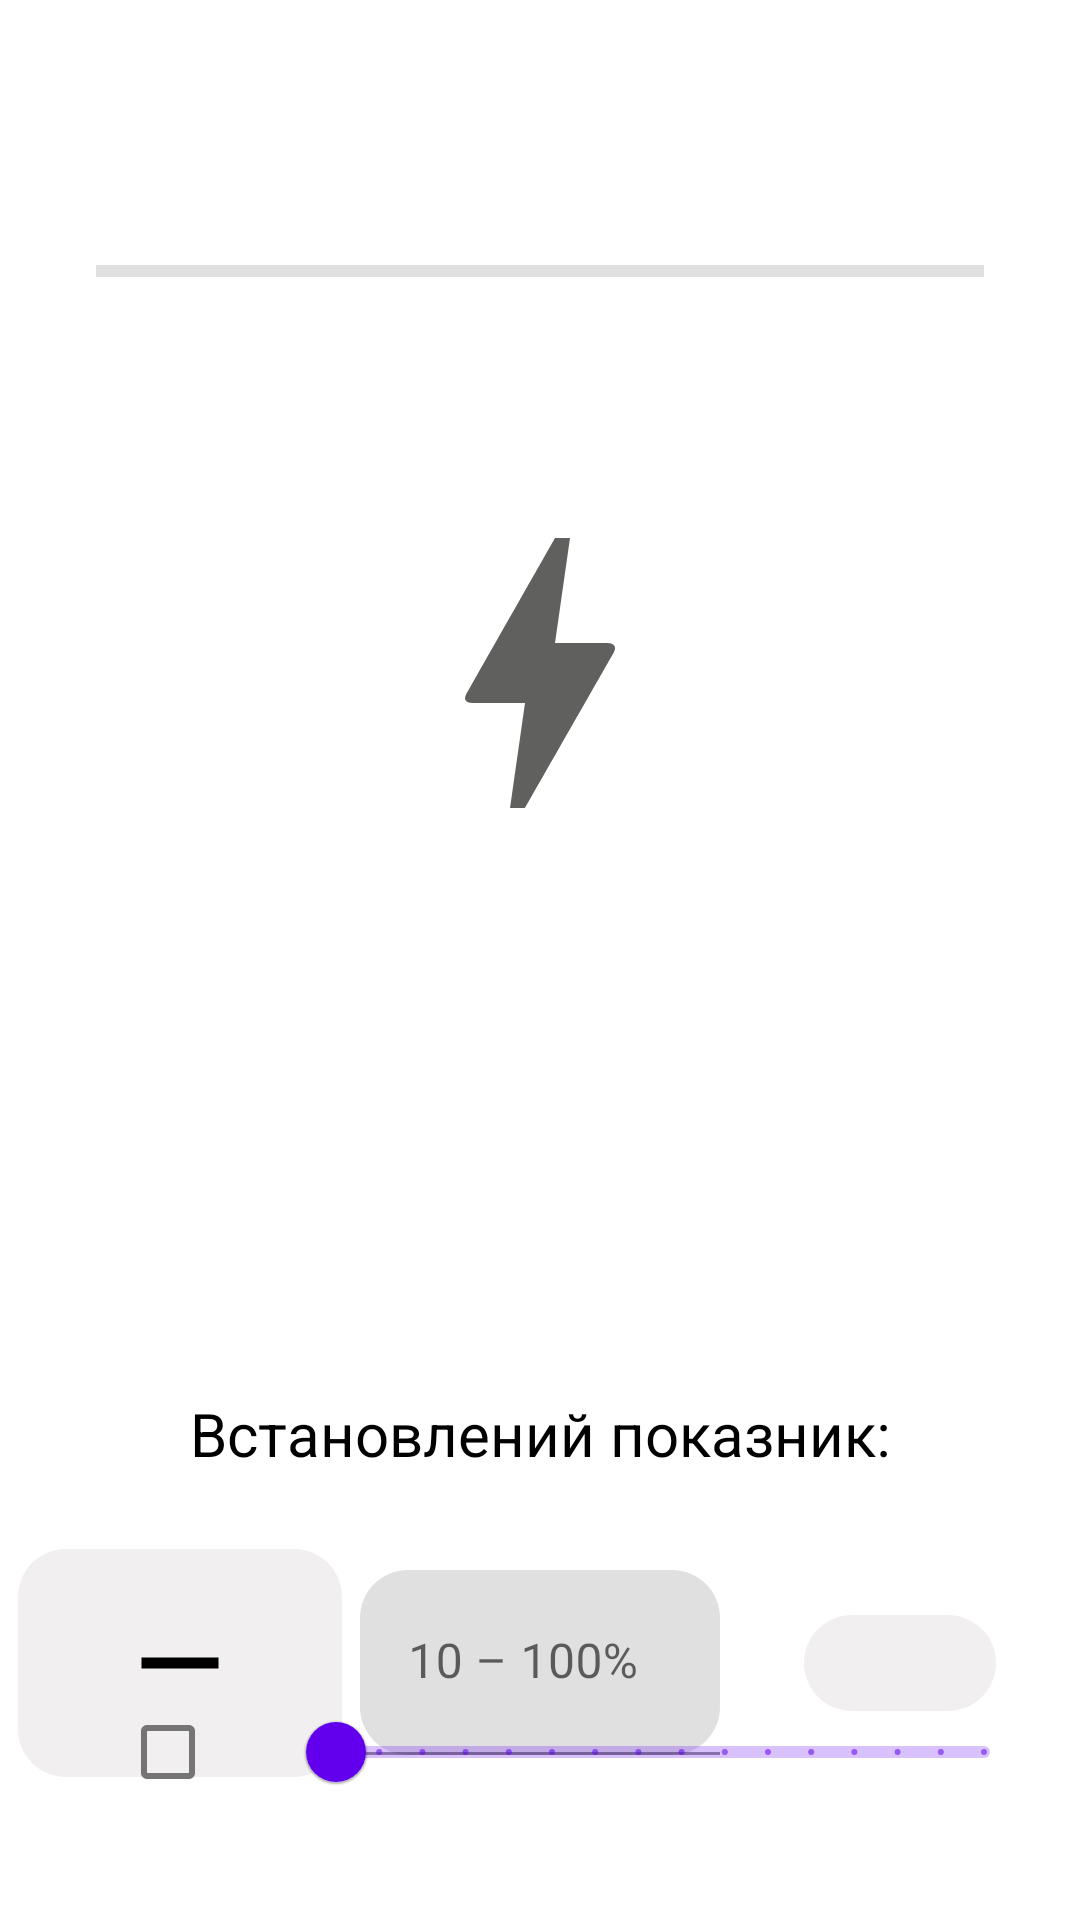

Screen size 1080px×1920px. Icon name, then its box in pixels as (left=x1, top=y1, right=x2, bottom=y2):
bolt: (left=465, top=538, right=615, bottom=808)
